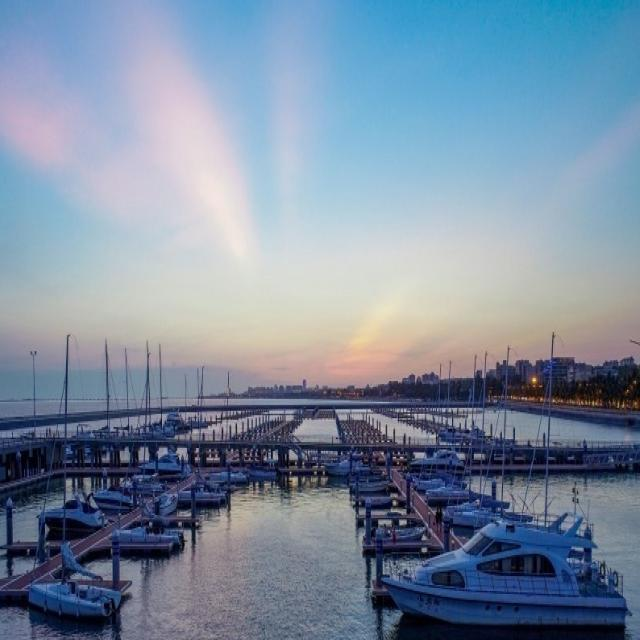houseboat: (381, 524, 619, 640), (54, 493, 102, 534)
